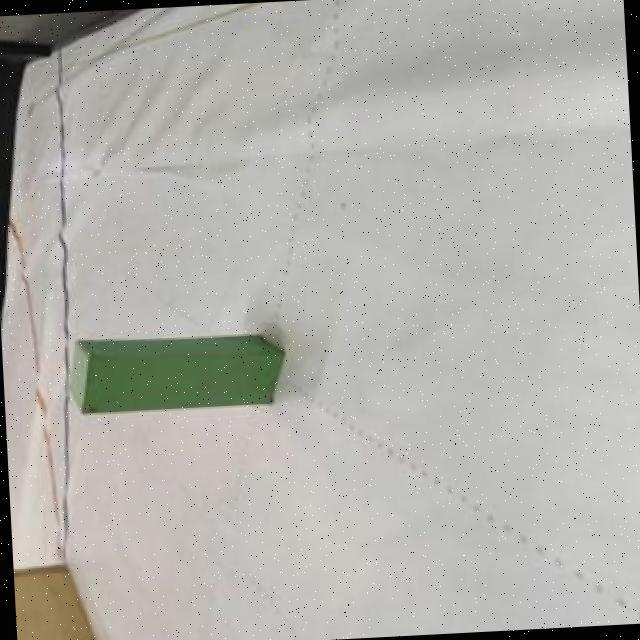greenbox: (62, 327, 287, 419)
